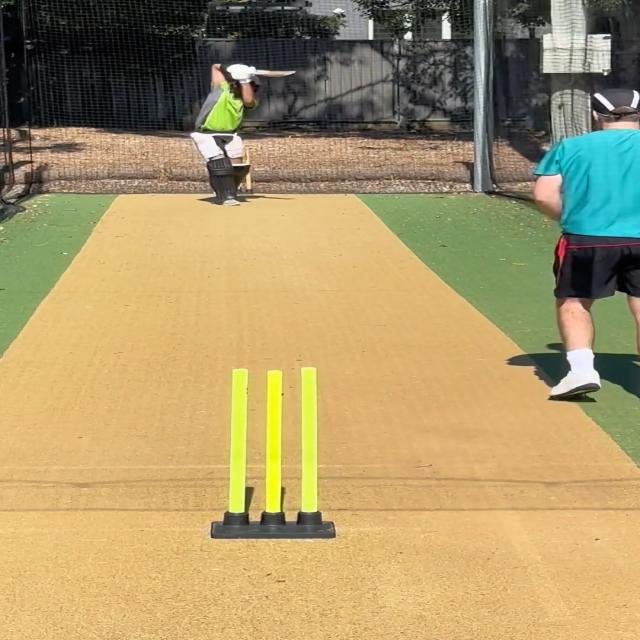stump: (208, 365, 339, 540)
